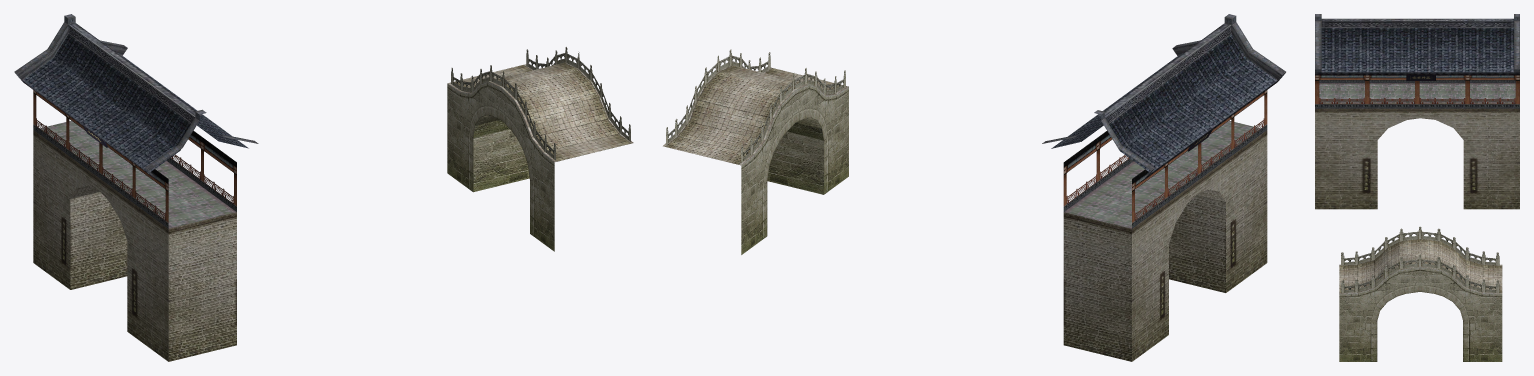
Rendered from cj_monstad_martbuil02_04.glb.
The picture shows the model from 3 angles, left to right: view 1: azimuth 30°, elevation 25°; view 2: azimuth 150°, elevation 25°; view 3: azimuth 270°, elevation 25°; orthographic projection. The views are drawn at different scales.
Parts seen in each view (by area): view 1: CJ_monstad_martbuil02_04_01, CJ_monstad_martbuil02_04_02, CJ_monstad_martbuil02_04_04, CJ_monstad_martbuil02_04_05, CJ_monstad_martbuil02_04_03, CJ_monstad_martbuil02_04_06; view 2: CJ_monstad_martbuil02_04_01, CJ_monstad_martbuil02_04_02, CJ_monstad_martbuil02_04_04, CJ_monstad_martbuil02_04_05, CJ_monstad_martbuil02_04_03, CJ_monstad_martbuil02_04_06; view 3: CJ_monstad_martbuil02_04_01, CJ_monstad_martbuil02_04_02, CJ_monstad_martbuil02_04_04, CJ_monstad_martbuil02_04_03, CJ_monstad_martbuil02_04_05, CJ_monstad_martbuil02_04_06.
Part boxes in pixels (<box>): CJ_monstad_martbuil02_04_01: <box>14,14,258,361</box>; CJ_monstad_martbuil02_04_02: <box>19,33,248,228</box>; CJ_monstad_martbuil02_04_04: <box>447,81,554,251</box>; CJ_monstad_martbuil02_04_05: <box>447,62,633,161</box>; CJ_monstad_martbuil02_04_03: <box>33,90,236,228</box>; CJ_monstad_martbuil02_04_06: <box>451,47,630,160</box>; CJ_monstad_martbuil02_04_01: <box>1042,14,1285,361</box>; CJ_monstad_martbuil02_04_02: <box>1051,34,1280,228</box>; CJ_monstad_martbuil02_04_04: <box>741,84,848,254</box>; CJ_monstad_martbuil02_04_05: <box>663,65,848,165</box>; CJ_monstad_martbuil02_04_03: <box>1063,90,1267,228</box>; CJ_monstad_martbuil02_04_06: <box>666,49,845,163</box>; CJ_monstad_martbuil02_04_01: <box>1315,14,1519,209</box>; CJ_monstad_martbuil02_04_02: <box>1315,27,1519,103</box>; CJ_monstad_martbuil02_04_04: <box>1339,267,1502,361</box>; CJ_monstad_martbuil02_04_03: <box>1315,75,1519,108</box>; CJ_monstad_martbuil02_04_05: <box>1339,238,1502,293</box>; CJ_monstad_martbuil02_04_06: <box>1341,226,1499,293</box>.
Size of the model in its own units: 28 by 12.82 by 13.1.
Materials: 7 (7 with a texture image).
